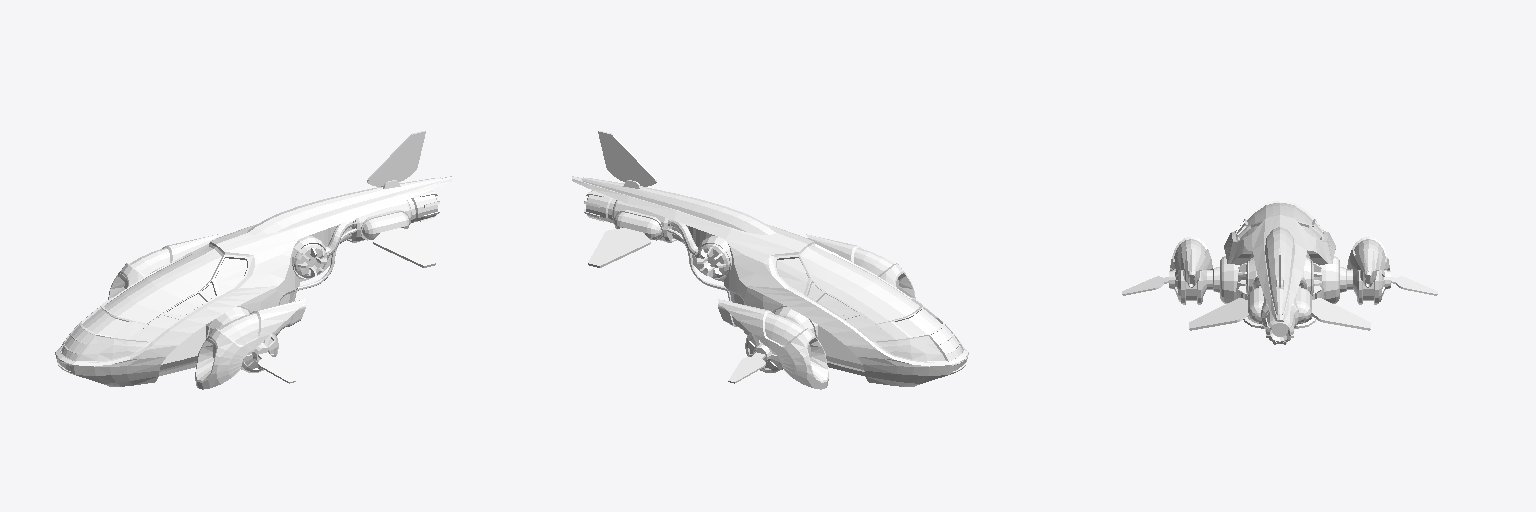
The model's file is spaceship2.obj.
3 renders of one model, left to right at view 1: azimuth 30°, elevation 25°; view 2: azimuth 150°, elevation 25°; view 3: azimuth 270°, elevation 25°, orthographic.
Visible parts, largest first — view 1: Ship_Type_3_Sphere.005; view 2: Ship_Type_3_Sphere.005; view 3: Ship_Type_3_Sphere.005.
Boxes of the visible parts, <box> form: Ship_Type_3_Sphere.005: <box>55,131,451,389</box>; Ship_Type_3_Sphere.005: <box>572,131,968,389</box>; Ship_Type_3_Sphere.005: <box>1122,201,1437,344</box>.
Bounding box in the file's own units: 0.8613 × 0.3519 × 0.5999.